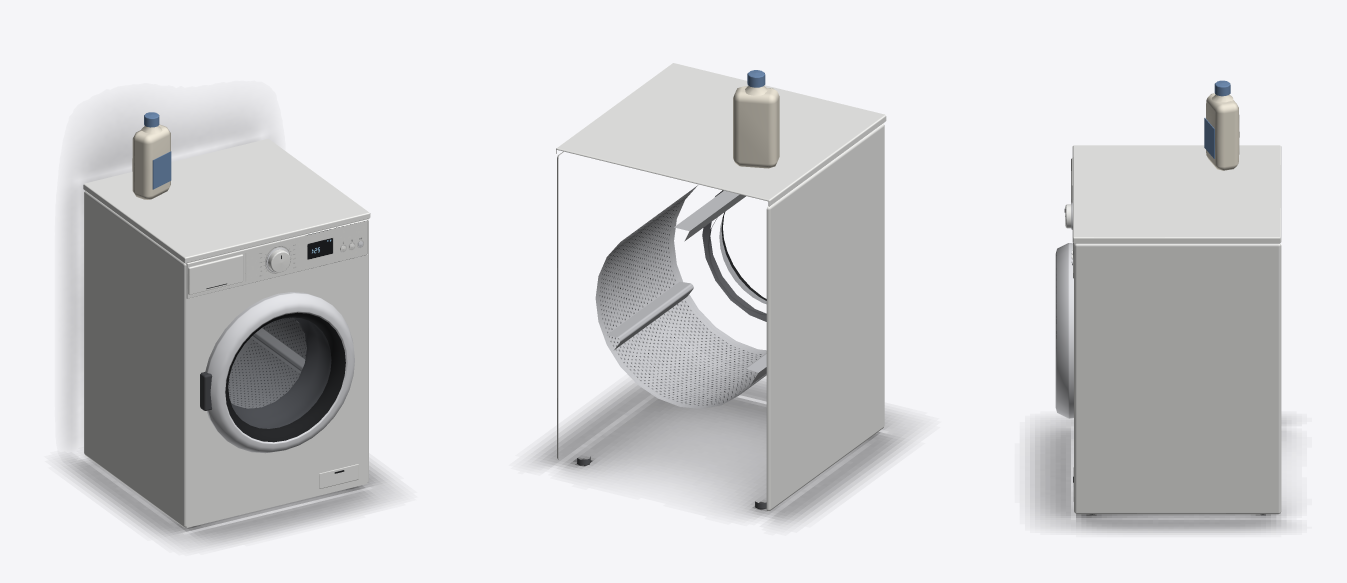
Rendered from washer.glb.
3 renders of one model, left to right at view 1: azimuth 30°, elevation 25°; view 2: azimuth 150°, elevation 25°; view 3: azimuth 270°, elevation 25°, orthographic. The views are drawn at different scales.
Parts seen in each view (by area): view 1: washer_LOD0, washer_Shadow; view 2: washer_LOD0, washer_Shadow; view 3: washer_LOD0, washer_Shadow.
Boxes of the visible parts, x1,y1,x2,y2 form: washer_LOD0: [83, 112, 370, 527]; washer_Shadow: [63, 120, 389, 544]; washer_LOD0: [556, 63, 886, 511]; washer_Shadow: [534, 379, 909, 523]; washer_LOD0: [1055, 80, 1281, 514]; washer_Shadow: [1030, 418, 1286, 532].
Size of what is drawn, in the model's own units: 0.88 by 1.3 by 0.895.
Materials: 5 (4 with a texture image).
